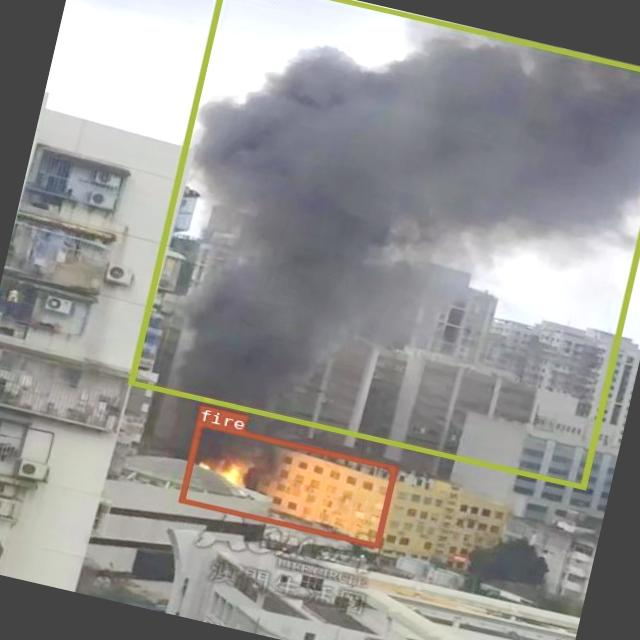fire: (177, 419, 396, 546)
smoke: (127, 0, 640, 487)
